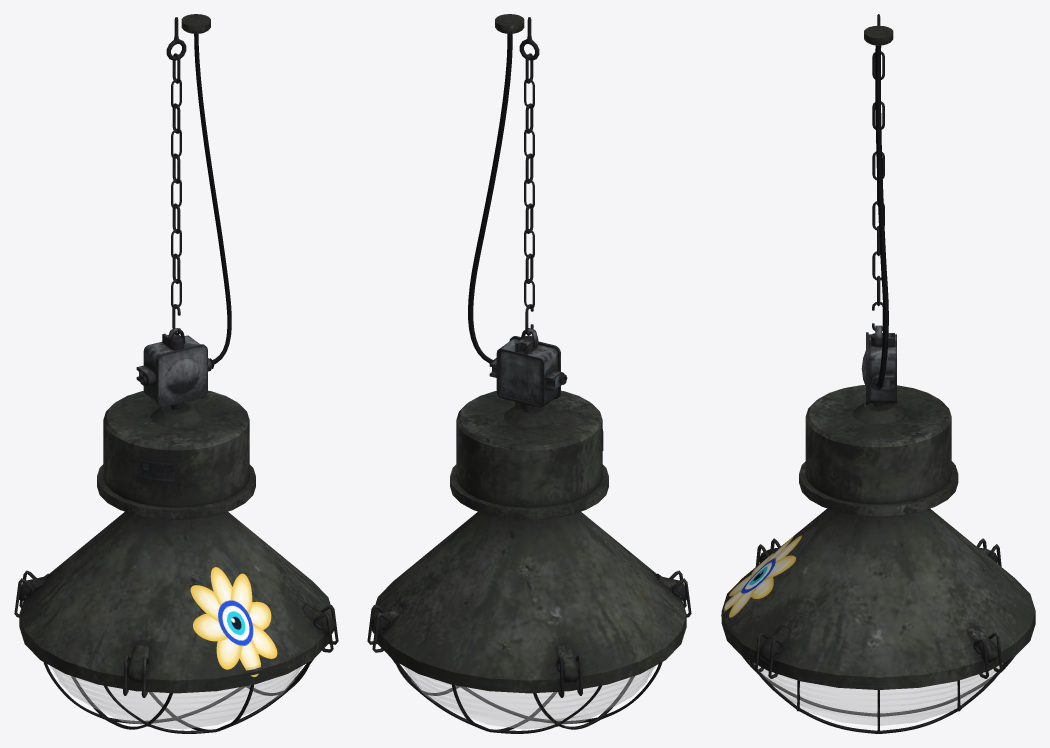
The model's file is nyb_hitch_pendant.glb.
The picture shows the model from 3 angles, left to right: view 1: azimuth 30°, elevation 25°; view 2: azimuth 150°, elevation 25°; view 3: azimuth 270°, elevation 25°; orthographic projection.
Parts seen in each view (by area): view 1: hanging_industrial_lamp, stk_eyeflower_gold.png; view 2: hanging_industrial_lamp; view 3: hanging_industrial_lamp, stk_eyeflower_gold.png.
Boxes of the visible parts, <box> form: hanging_industrial_lamp: <box>14,14,338,733</box>; stk_eyeflower_gold.png: <box>190,567,277,676</box>; hanging_industrial_lamp: <box>367,14,691,733</box>; hanging_industrial_lamp: <box>721,14,1035,733</box>; stk_eyeflower_gold.png: <box>721,534,801,617</box>.
Size of the model in its own units: 0.5496 by 1.36 by 0.5521.
3 materials, 2 textured.
